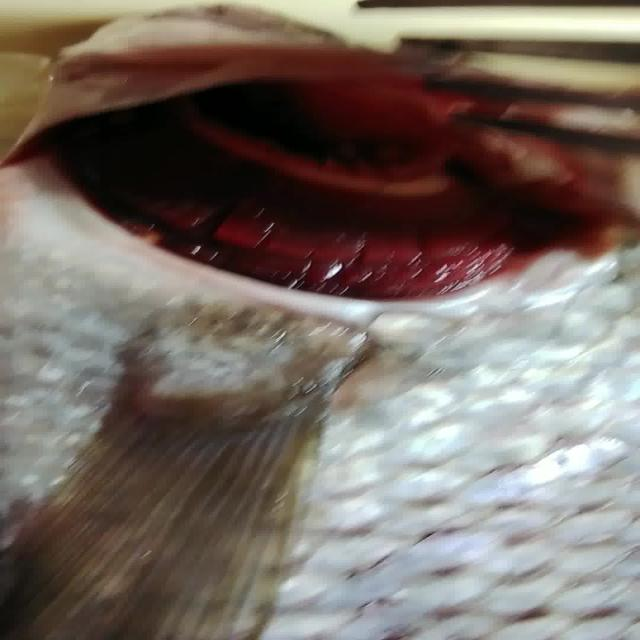Fresh: (22, 90, 603, 308)
